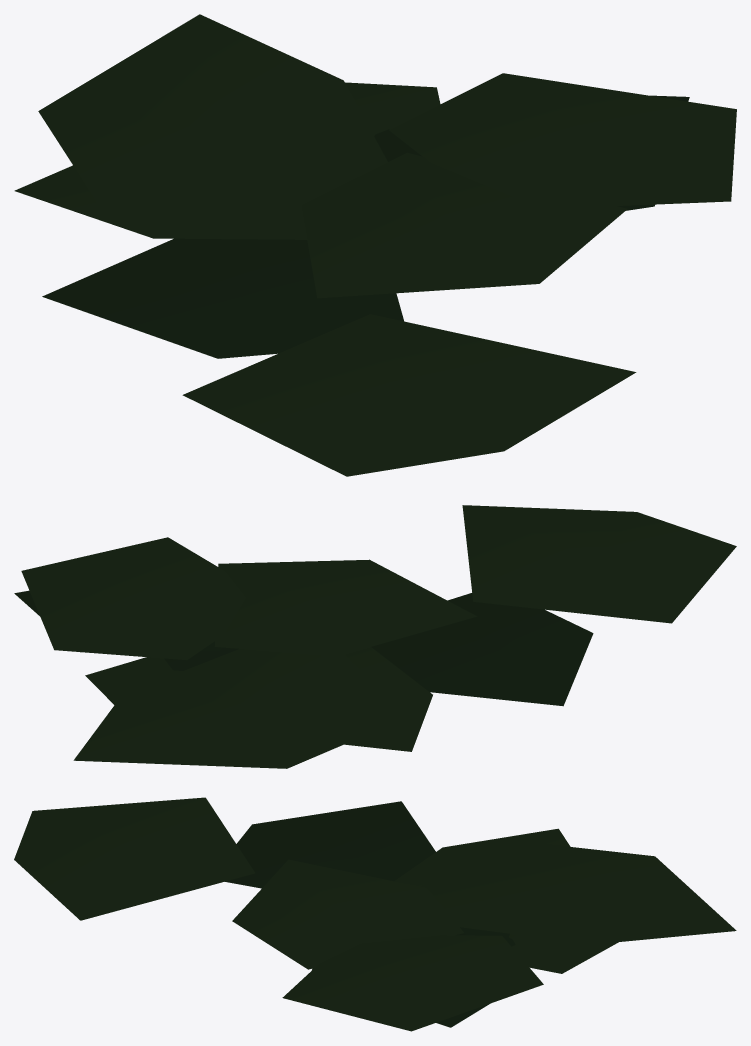
The model's file is moss_b.glb.
The picture shows the model from 3 angles, top to bottom: view 1: azimuth 30°, elevation 25°; view 2: azimuth 150°, elevation 25°; view 3: azimuth 270°, elevation 25°; orthographic projection. The views are drawn at different scales.
Parts seen in each view (by area): view 1: moss_b; view 2: moss_b; view 3: moss_b.
Boxes of the visible parts, <box> form: moss_b: <box>14,14,736,476</box>; moss_b: <box>14,505,736,768</box>; moss_b: <box>14,797,736,1031</box>.
Size of the model in its own units: 1.41 by 0.031 by 1.82.
Materials: 1 (1 with a texture image).
